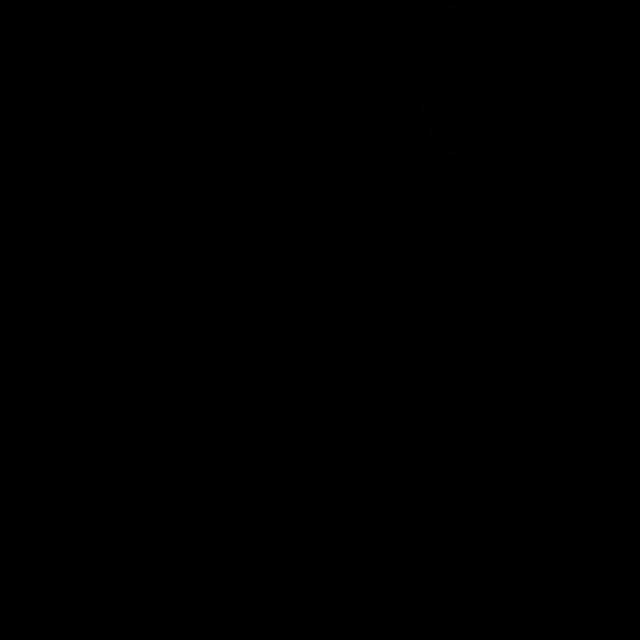rigid_plastic: (406, 0, 528, 159)
